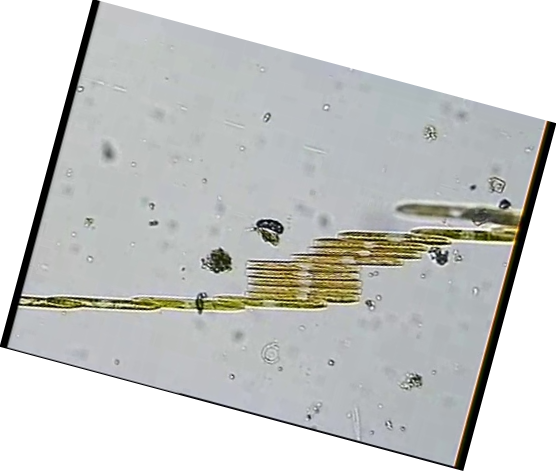Bacillaria: (245, 292, 361, 303), (242, 280, 358, 291), (244, 259, 360, 270), (306, 246, 422, 257), (331, 231, 447, 242)
